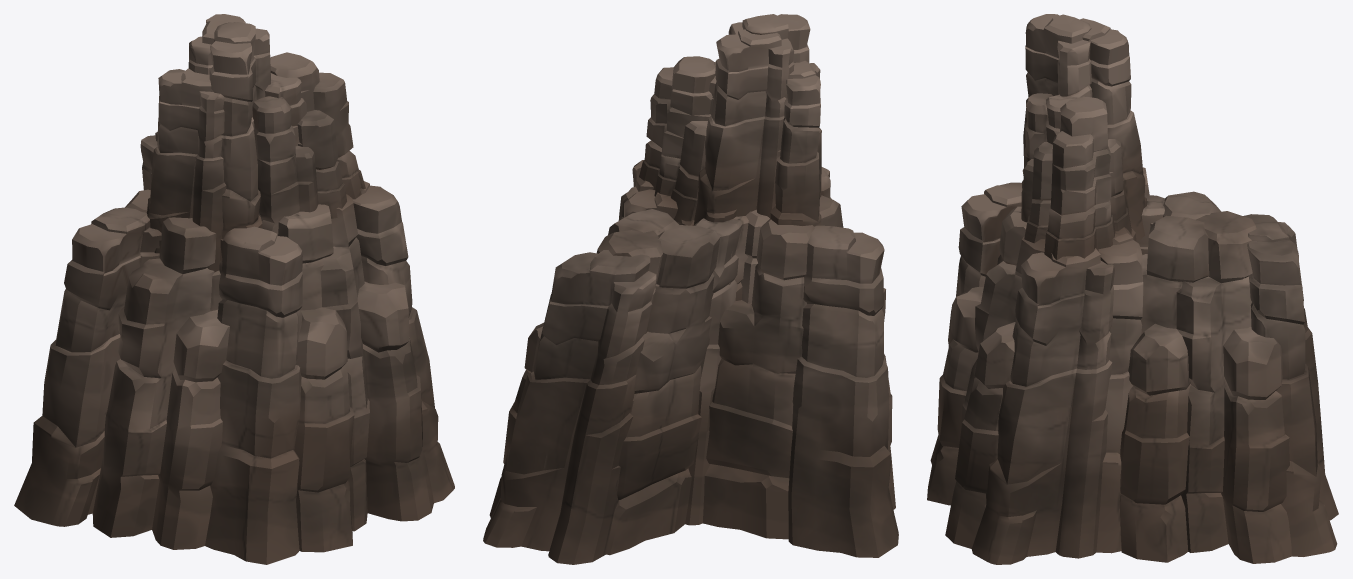
File: Lava-LargeRock-002.fbx
3 views of the same model, side by side, from view 1: azimuth 30°, elevation 25°; view 2: azimuth 150°, elevation 25°; view 3: azimuth 270°, elevation 25° (orthographic). The views are drawn at different scales.
Visible parts, largest first — view 1: Lava-LargeRock-002; view 2: Lava-LargeRock-002; view 3: Lava-LargeRock-002.
Part boxes in pixels (x1,y1,x2,y2): Lava-LargeRock-002: (14,14,454,564); Lava-LargeRock-002: (483,14,898,564); Lava-LargeRock-002: (927,14,1338,564).
Bounding box in the file's own units: 2047 × 2625 × 2152.
